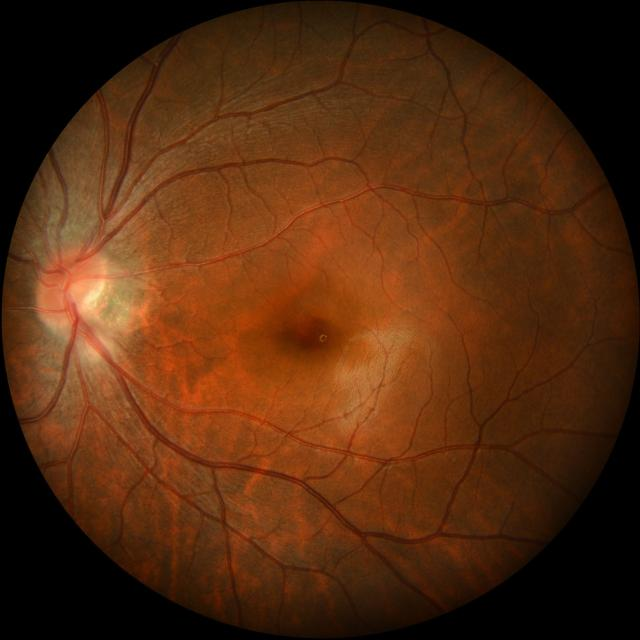OC: (64, 272, 90, 302)
OD: (36, 245, 106, 324)
